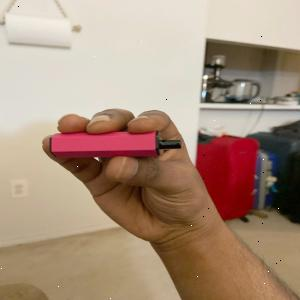Blume-E-Ciggirate: (47, 128, 187, 162)
